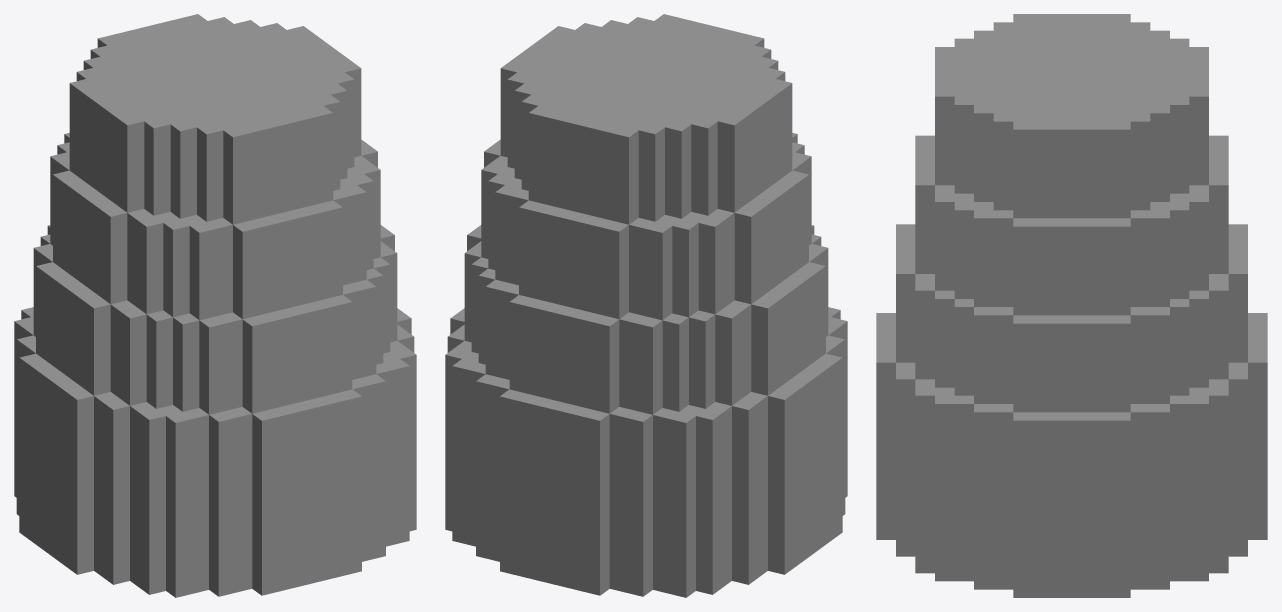
File: breakwater.fbx
3 views of the same model, side by side, from view 1: azimuth 30°, elevation 25°; view 2: azimuth 150°, elevation 25°; view 3: azimuth 270°, elevation 25° (orthographic).
Parts seen in each view (by area): view 1: breakwater; view 2: breakwater; view 3: breakwater.
Part boxes in pixels (x1,y1,x2,y2): breakwater: [14, 14, 416, 597]; breakwater: [445, 14, 847, 597]; breakwater: [876, 14, 1267, 597].
Size of the model in its own units: 20 by 25 by 20.
Materials: 1 (1 with a texture image).
